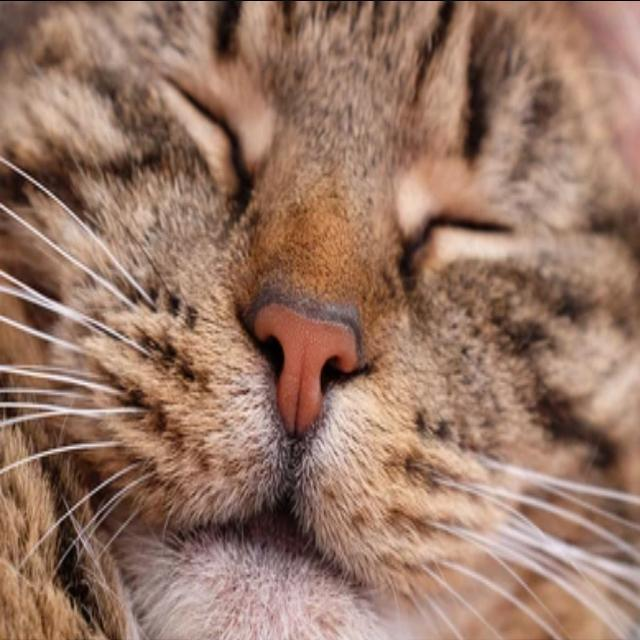Healthy skin: (513, 300, 621, 438), (310, 41, 428, 150), (27, 69, 130, 163), (293, 197, 374, 254)
